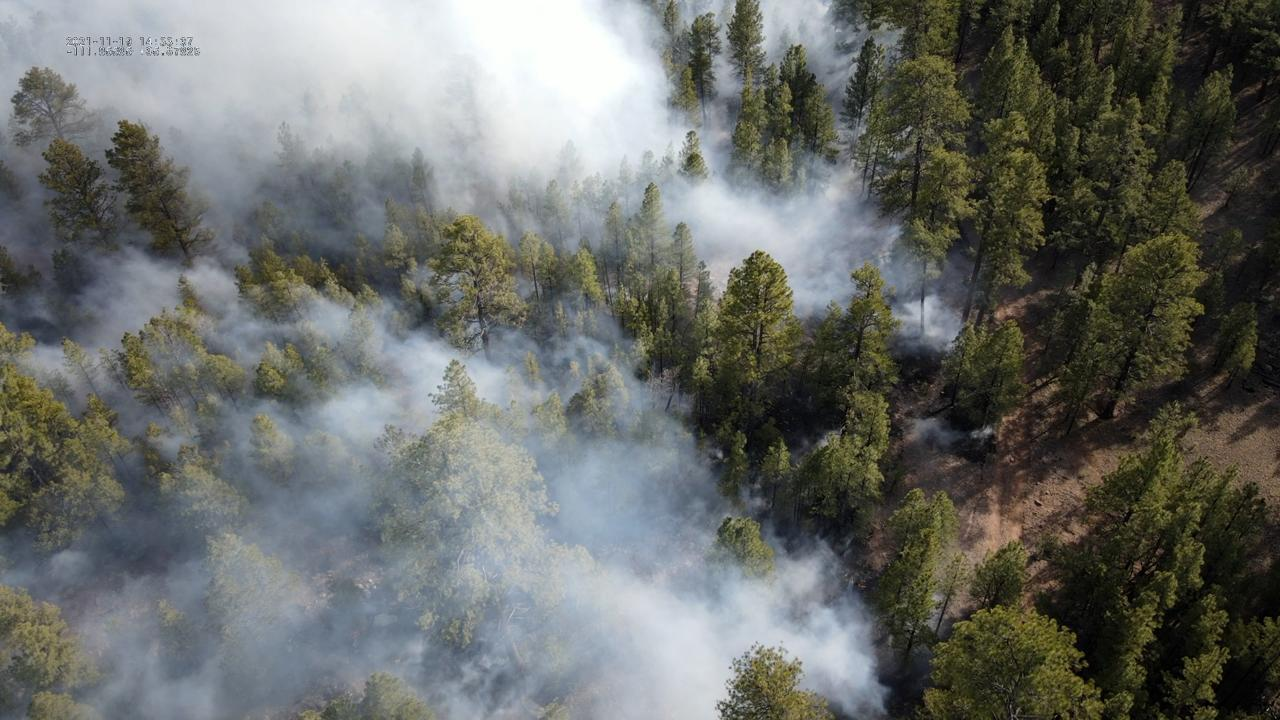smoke: (0, 0, 995, 720)
